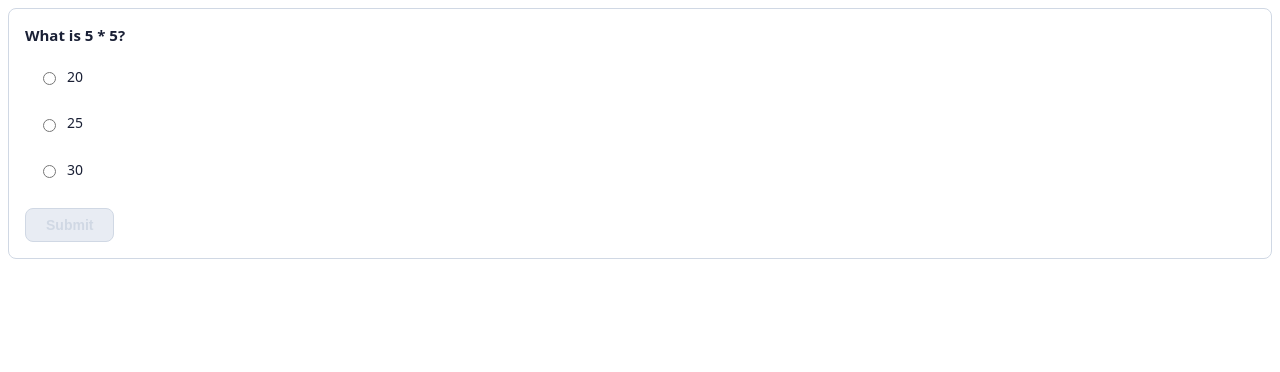
it: Quiz › explanation revealed after submit
Expected: the text "Five times five equals twenty-five." is not shown
What coordinates should you click on to do the following:
click the radio button labelled "25"
I would click on:
 (50, 125)
Its box is [43, 119, 56, 132].
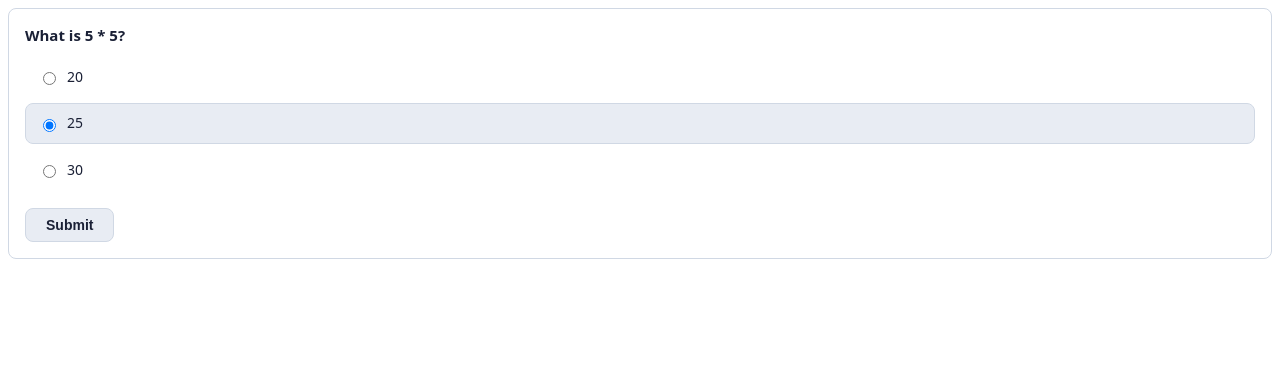
What coordinates should you click on to do the following:
click the button "Submit"
I would click on:
 (70, 225)
Its box is [25, 208, 114, 242].
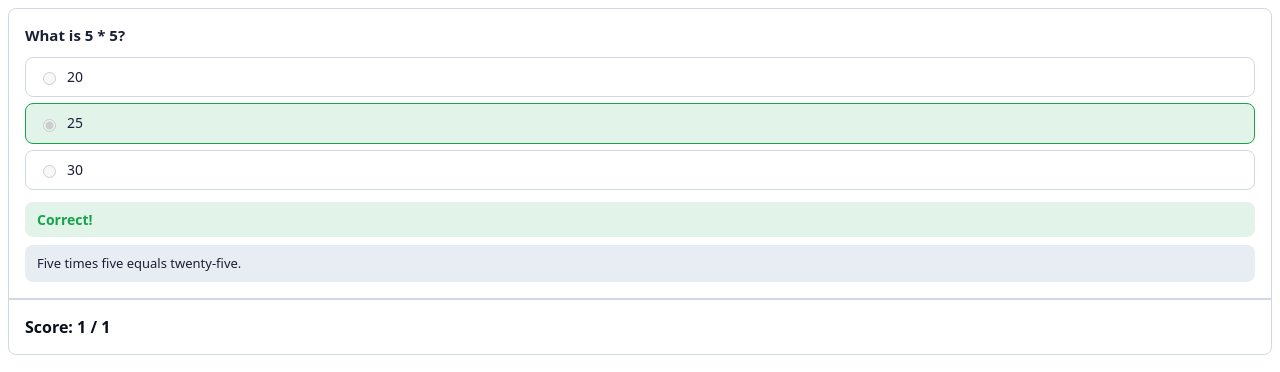
Expected: the text "Five times five equals twenty-five." is shown, [37, 254, 241, 272]
